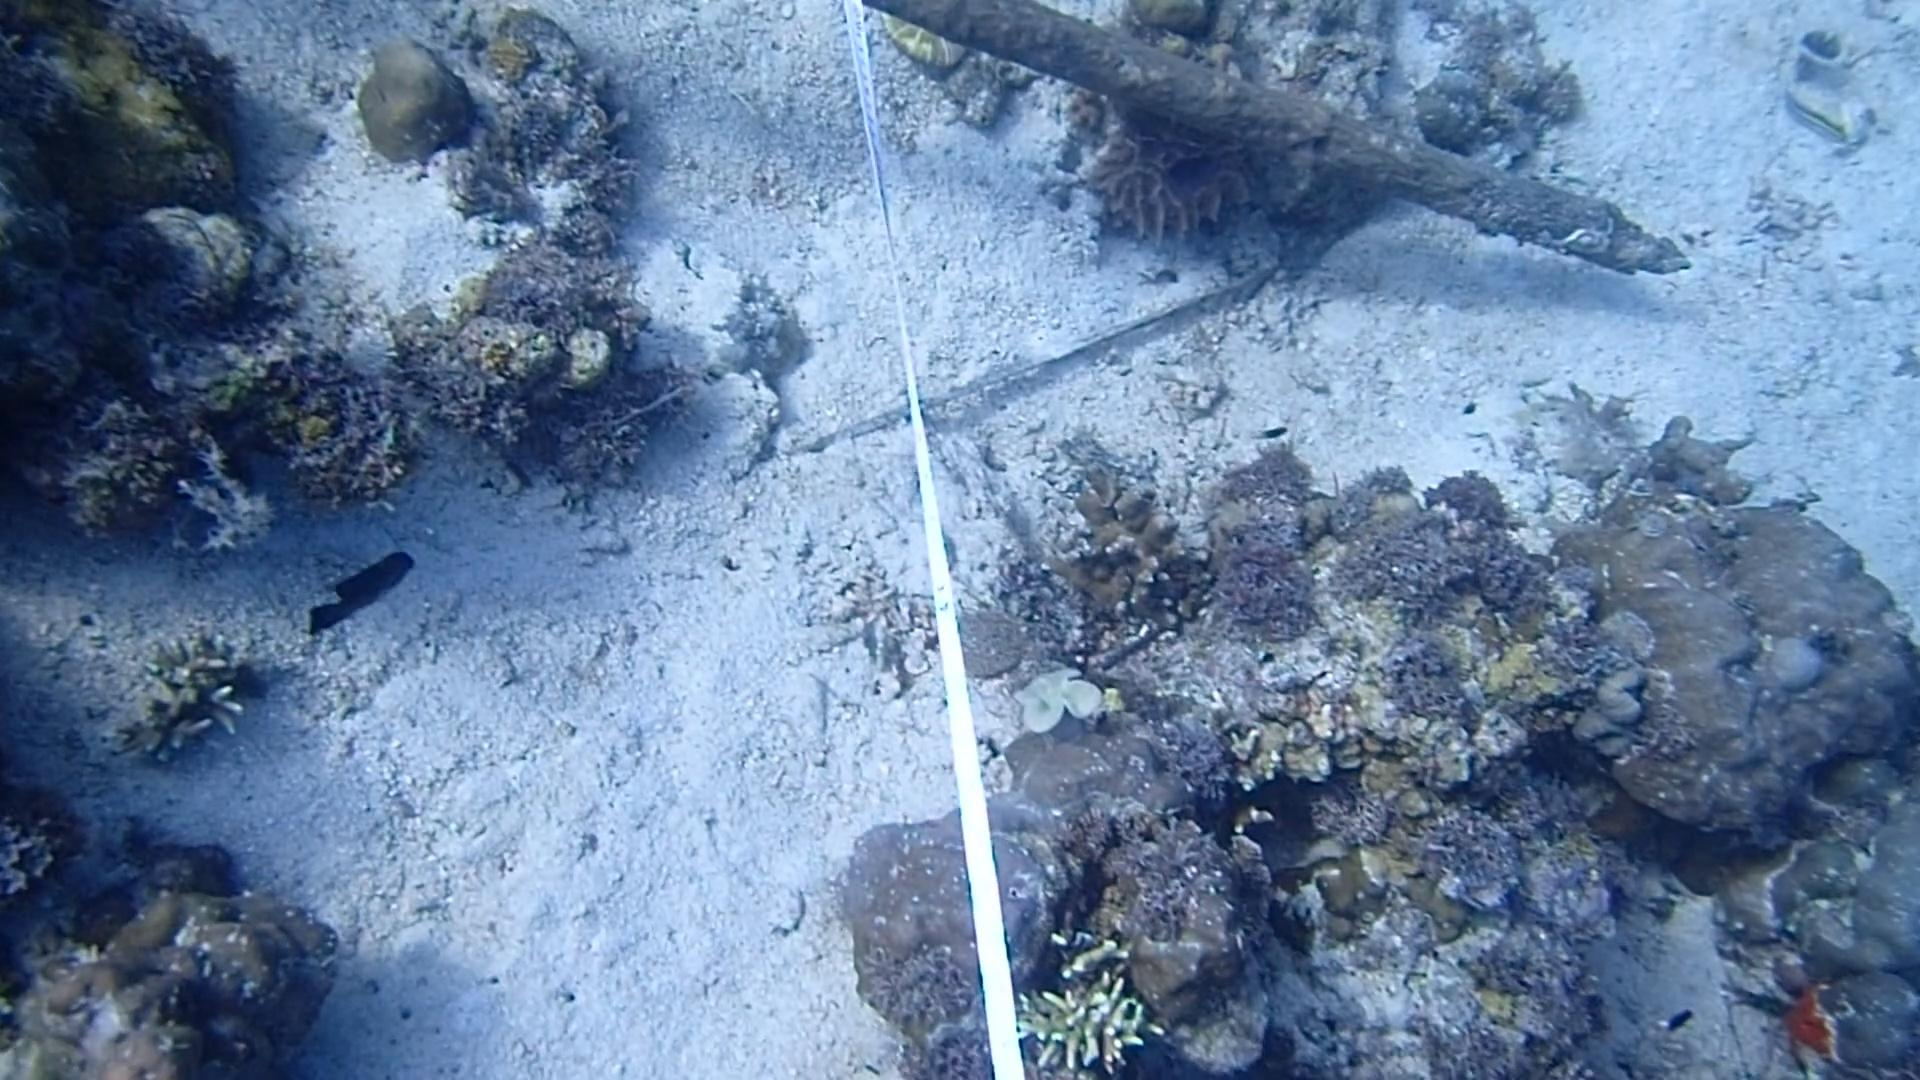Dark Fish: (297, 543, 415, 638)
Striped Fish: (1762, 79, 1865, 162)
